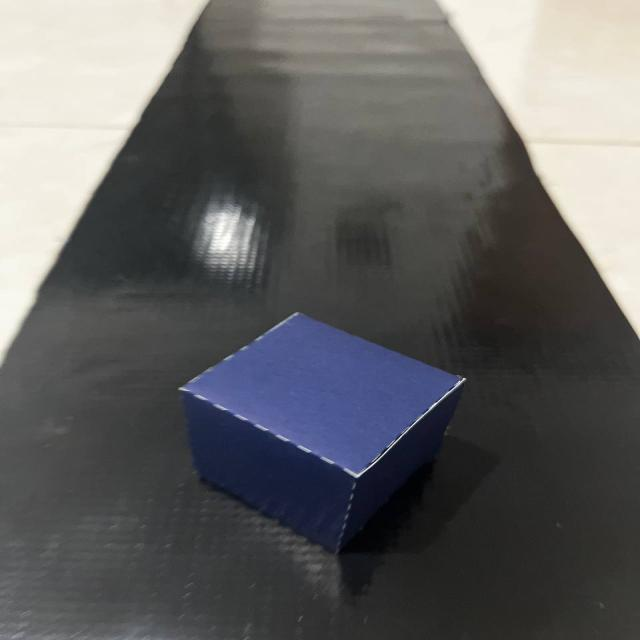Azul: (162, 302, 484, 576)
